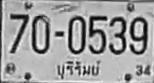0: (31, 13, 49, 53), (67, 15, 85, 53)
3: (108, 16, 125, 54)
5: (88, 14, 106, 53)
7: (9, 13, 28, 53)
9: (129, 15, 147, 54)
BRM: (54, 58, 103, 81)
